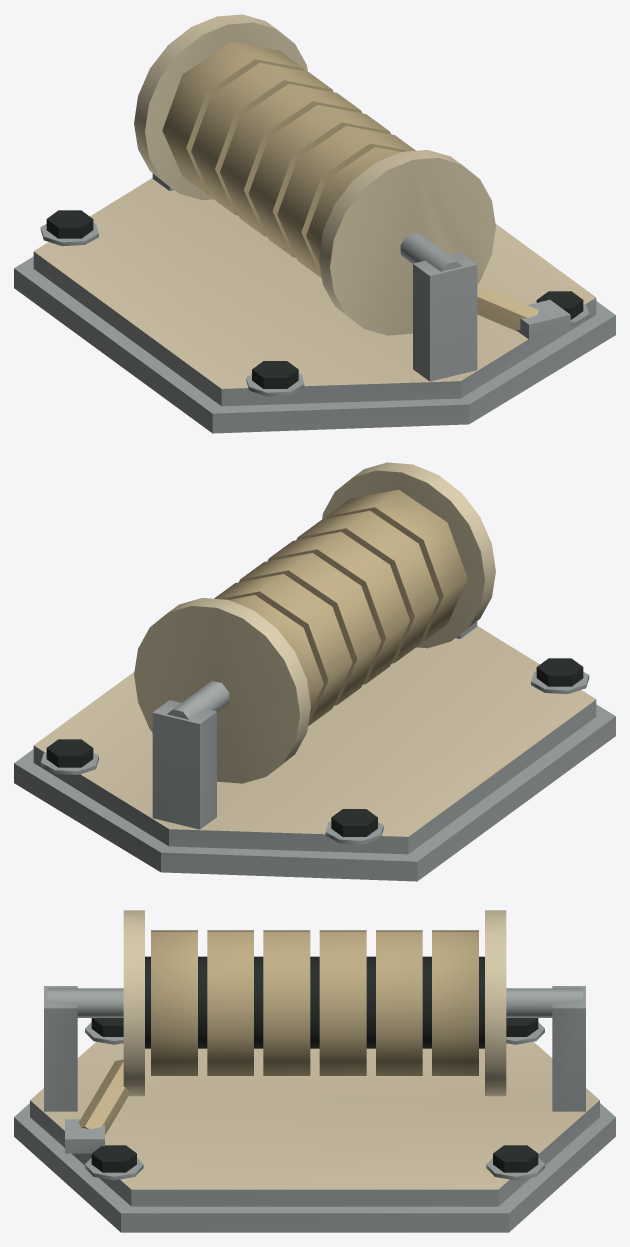
Rendered from panel_spool.glb.
3 views of the same model, one above another, from view 1: azimuth 30°, elevation 25°; view 2: azimuth 150°, elevation 25°; view 3: azimuth 270°, elevation 25° (orthographic). The views are drawn at different scales.
Visible parts, largest first — view 1: panel_spool; view 2: panel_spool; view 3: panel_spool.
Boxes of the visible parts, left/top/right/bottom form: panel_spool: left=14, top=14, right=615, bottom=433; panel_spool: left=14, top=462, right=615, bottom=881; panel_spool: left=14, top=910, right=615, bottom=1232.
Size of the model in its own units: 0.34 by 0.18 by 0.45.
